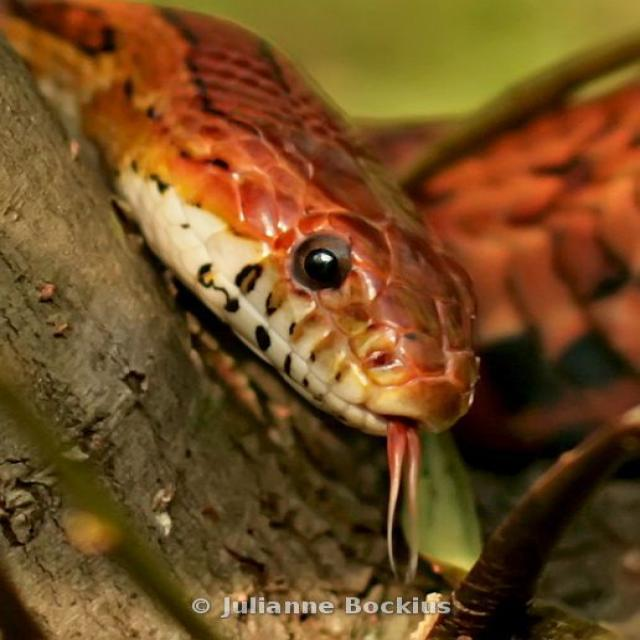Snake: (0, 0, 482, 585)
